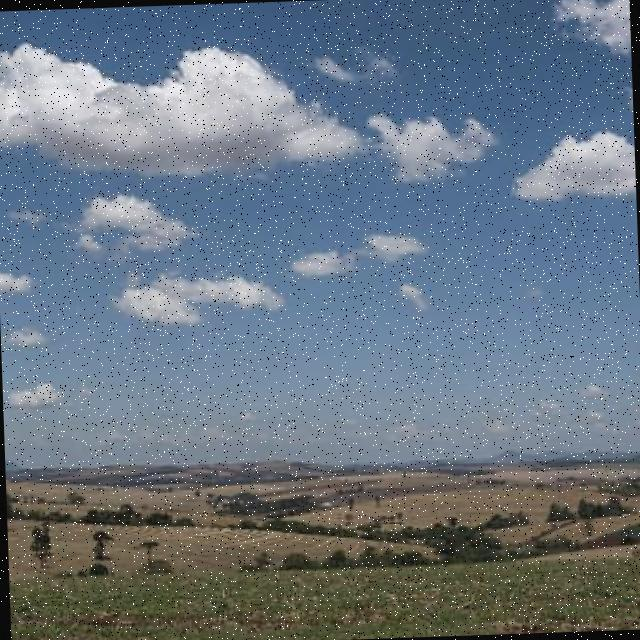St: (1, 5, 507, 220)
